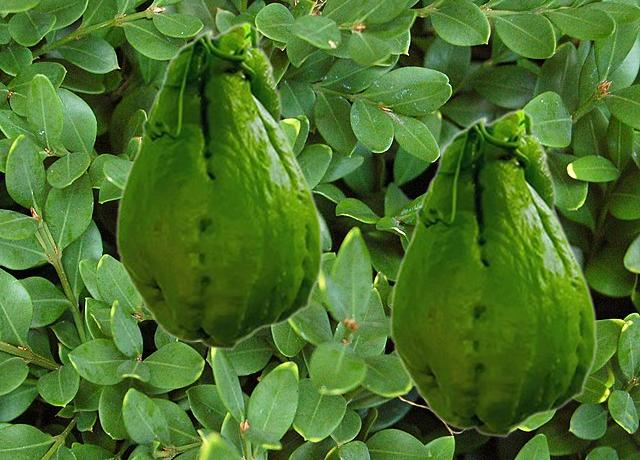sayote: (115, 21, 323, 350), (389, 108, 597, 437)
